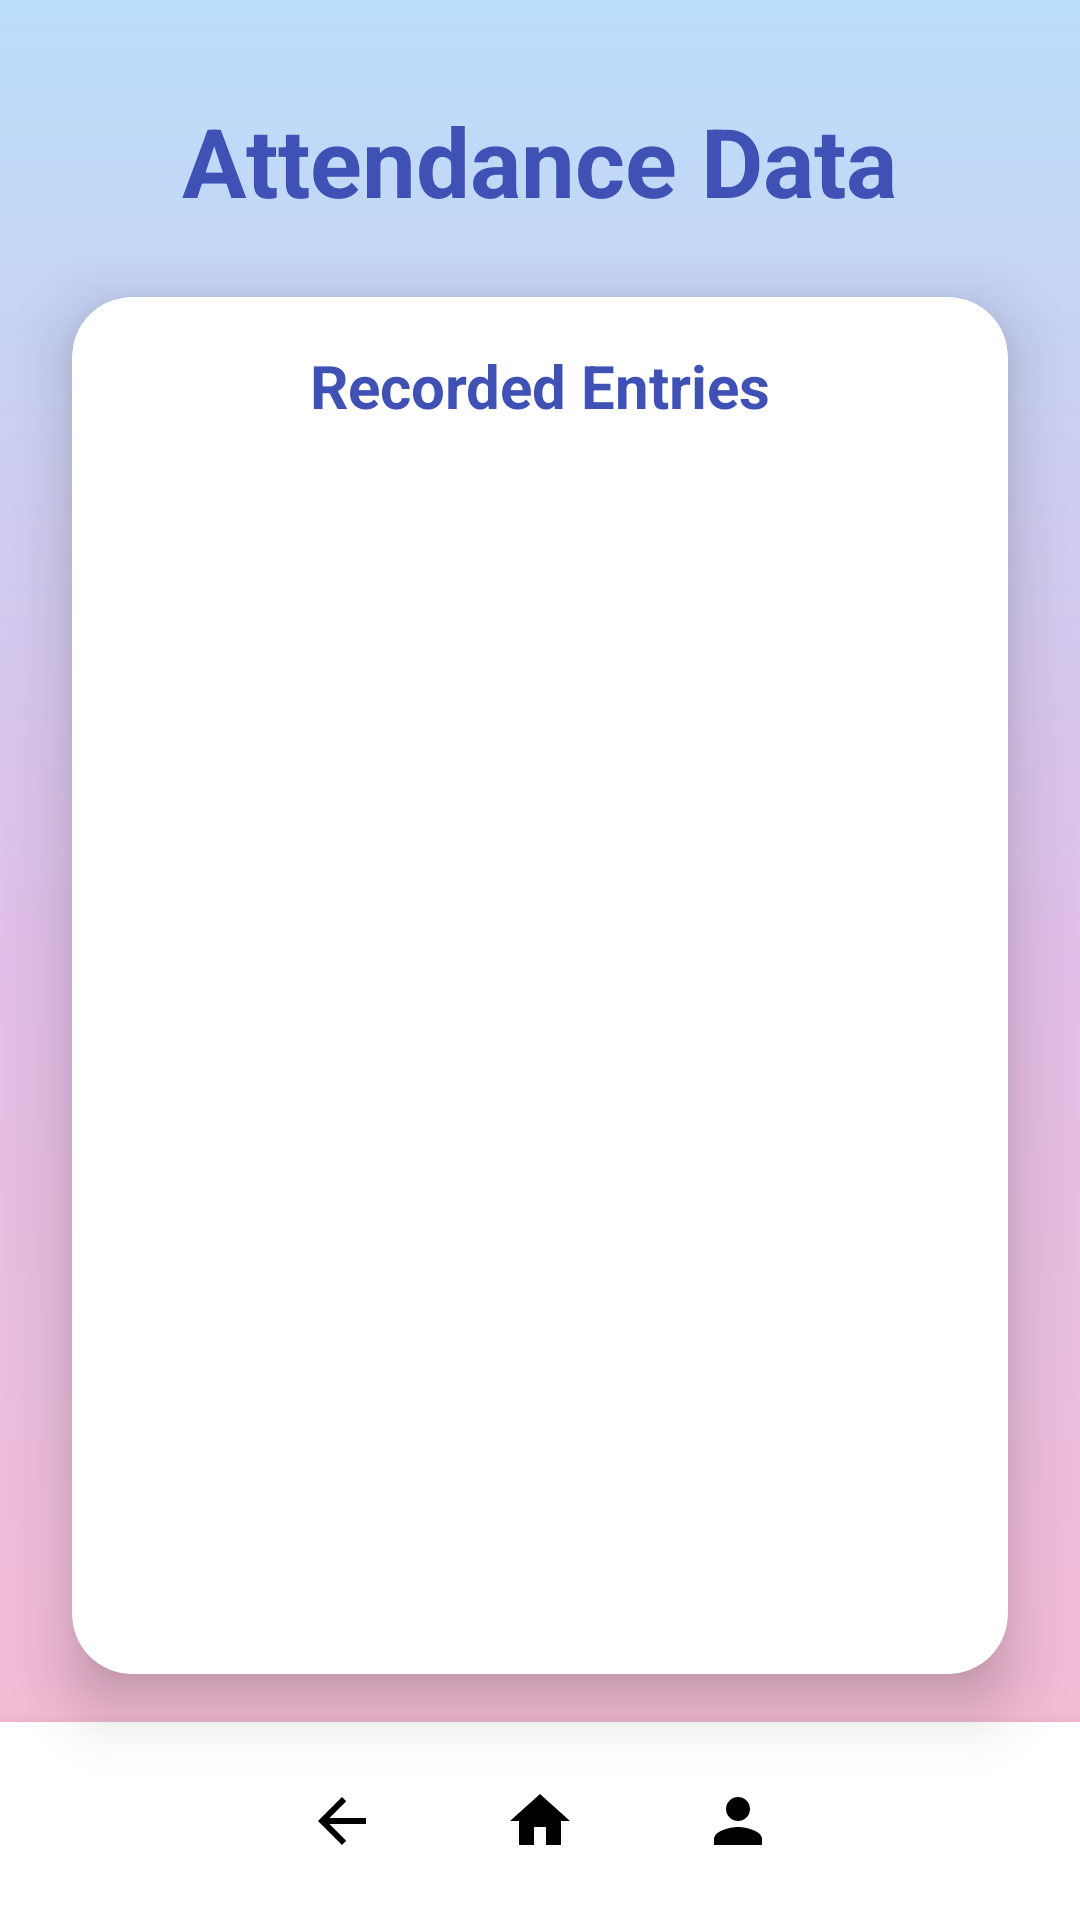

Where to tap for icons on this 1080 x 1920 app screen, as point (x, y):
Back: point (342, 1821)
Home: point (540, 1819)
Profile: point (738, 1821)
